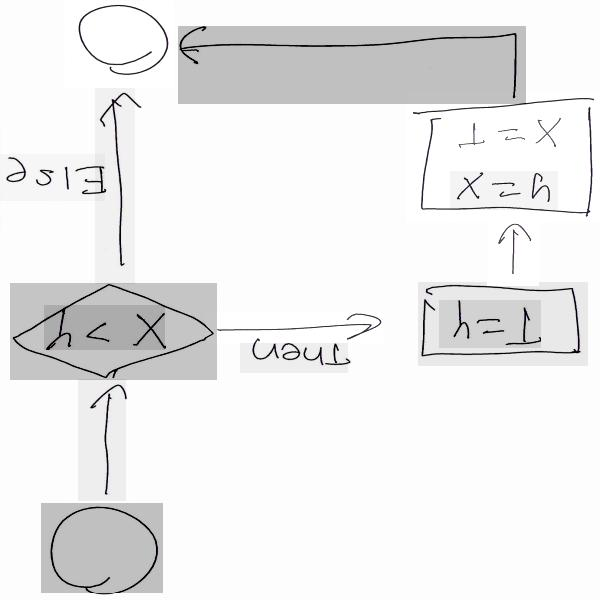arrow: (178, 26, 526, 104), (95, 88, 135, 283), (77, 378, 126, 501), (205, 312, 383, 343), (487, 221, 539, 286)
decision: (10, 283, 217, 379)
process: (406, 91, 600, 222), (418, 282, 588, 366)
terminator: (41, 502, 163, 592), (65, 1, 174, 88)
text: (43, 304, 164, 349), (0, 154, 105, 201), (438, 300, 540, 348), (450, 171, 558, 210), (240, 336, 348, 373), (454, 117, 562, 152)
